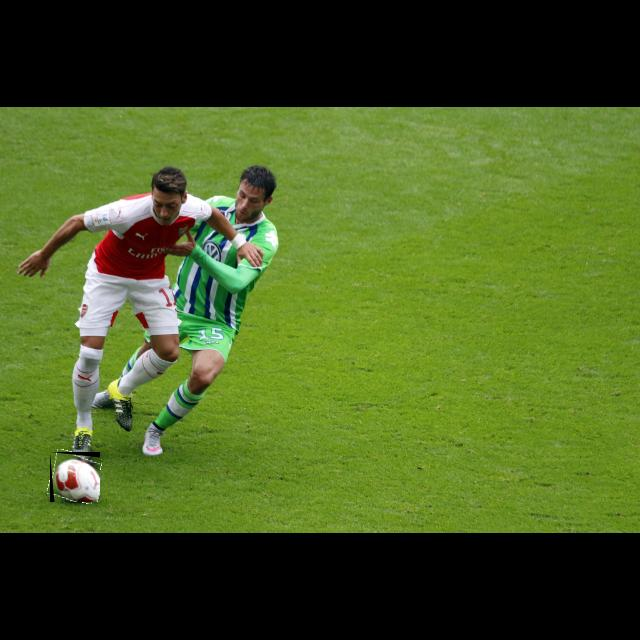Football: (50, 452, 100, 502)
